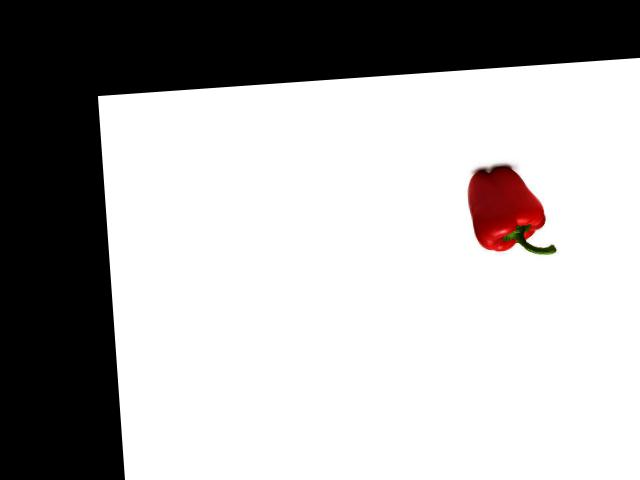bell_pepper: (461, 156, 559, 265)
